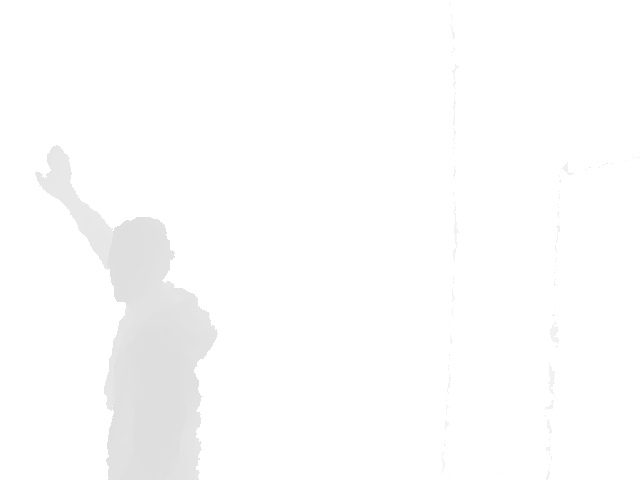hand: (34, 145, 80, 198)
head: (109, 216, 177, 302)
person: (34, 145, 220, 480)
